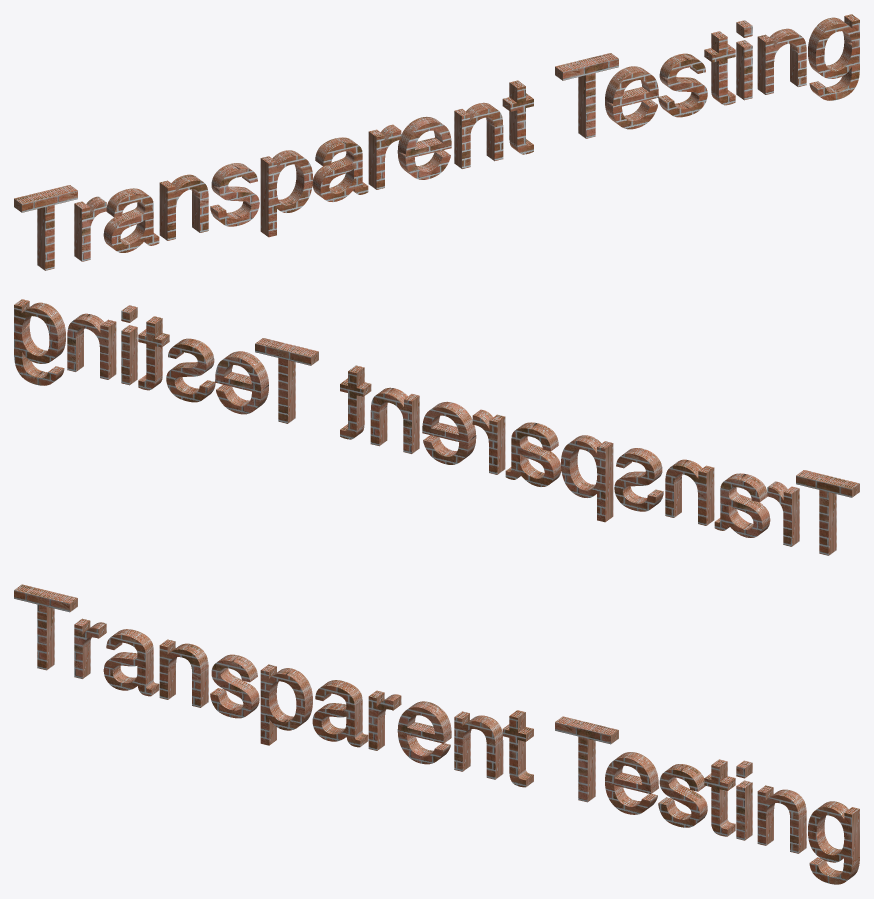
Rendered from TextOnly.obj.
3 renders of one model, top to bottom at view 1: azimuth 30°, elevation 25°; view 2: azimuth 150°, elevation 25°; view 3: azimuth 330°, elevation 25°, orthographic.
Parts seen in each view (by area): view 1: object 1, _2; view 2: _1, _2; view 3: object 1, _2.
Part boxes in pixels (bbox=[...]): object 1: bbox=[22, 20, 859, 270]; _2: bbox=[14, 14, 859, 270]; _1: bbox=[14, 305, 851, 555]; _2: bbox=[14, 299, 859, 555]; object 1: bbox=[14, 590, 851, 884]; _2: bbox=[14, 584, 859, 880].
Bounding box in the file's own units: 39.28 × 4.24 × 0.645.
3 materials, 3 textured.
